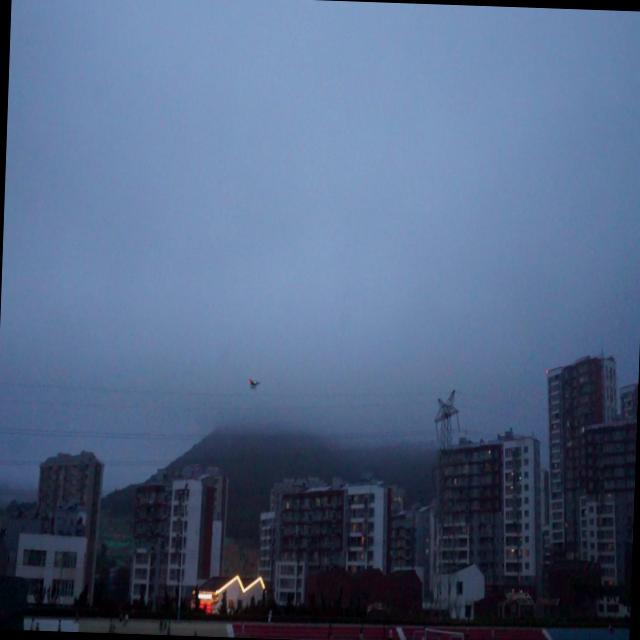drone: (246, 372, 261, 392)
